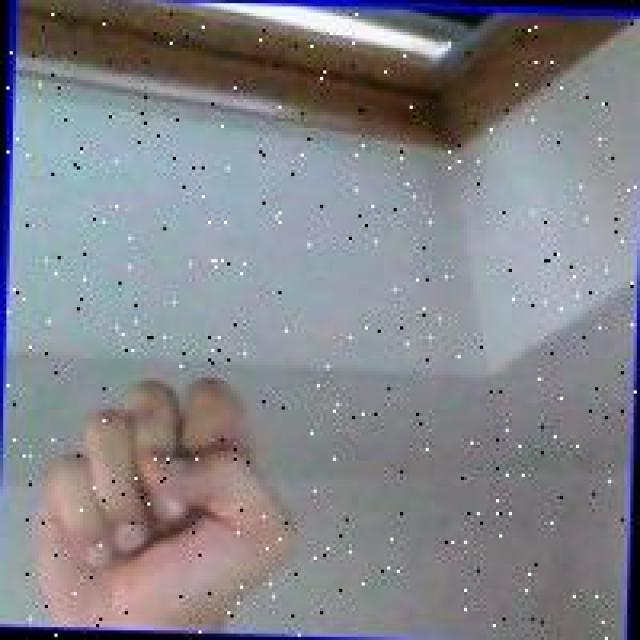S: (21, 364, 302, 638)
